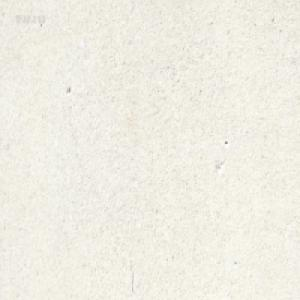Wrench: (114, 0, 120, 4)
